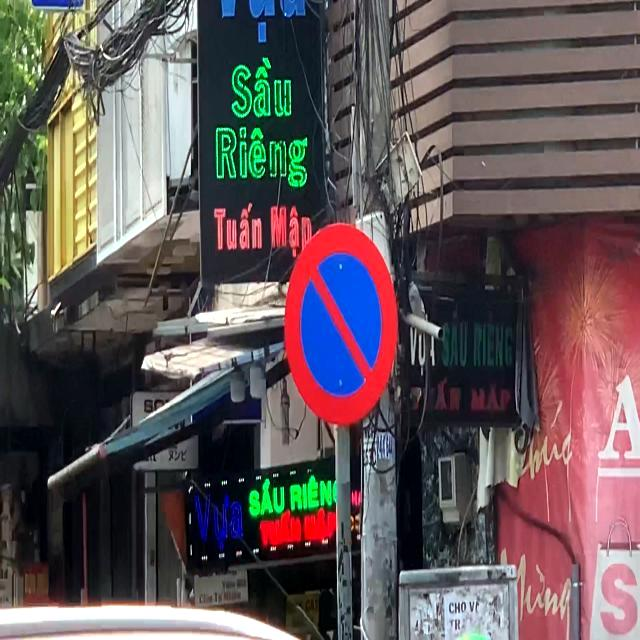Cam do xe: (280, 218, 402, 428)
